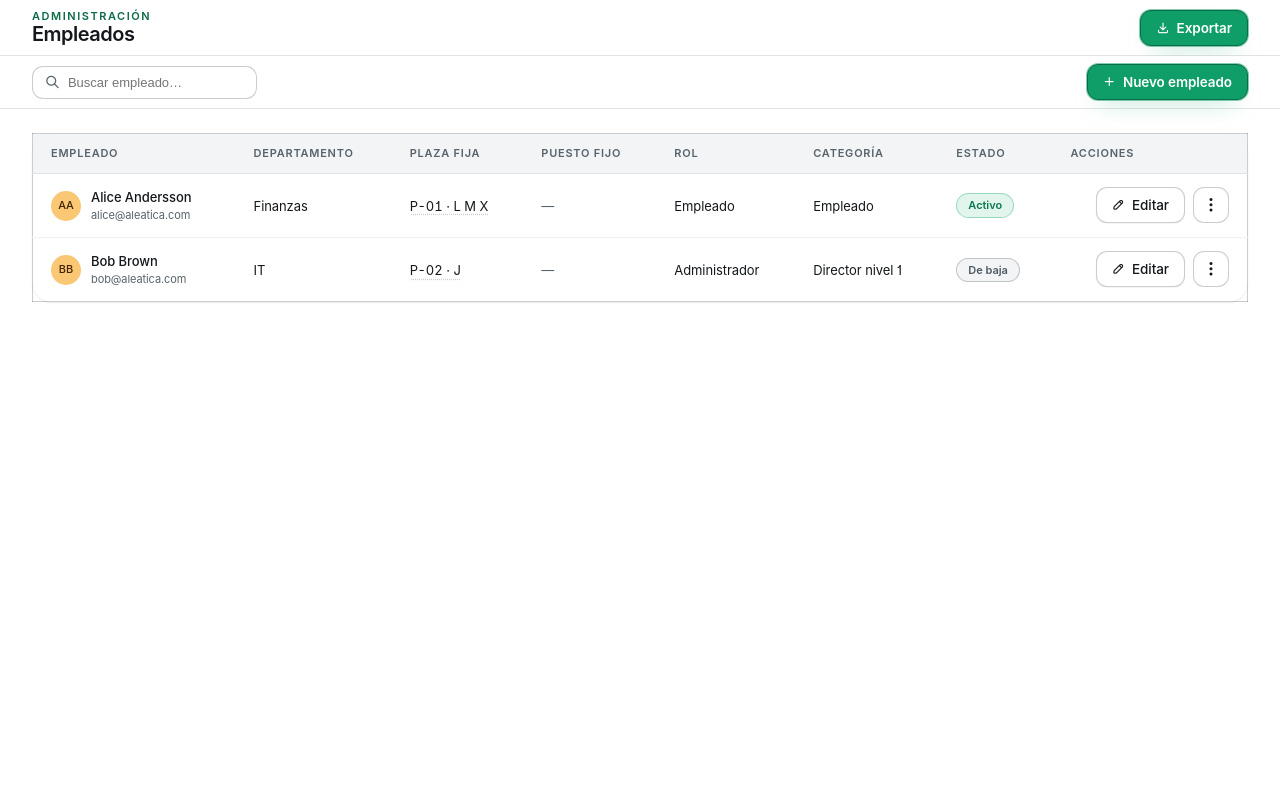
EmployeesPage › should_open_edit_form_prefilled_when_clicking_edit
Step 1. Click the button "Editar" in the row of "AA" → (1140, 205), box [1096, 187, 1185, 223]
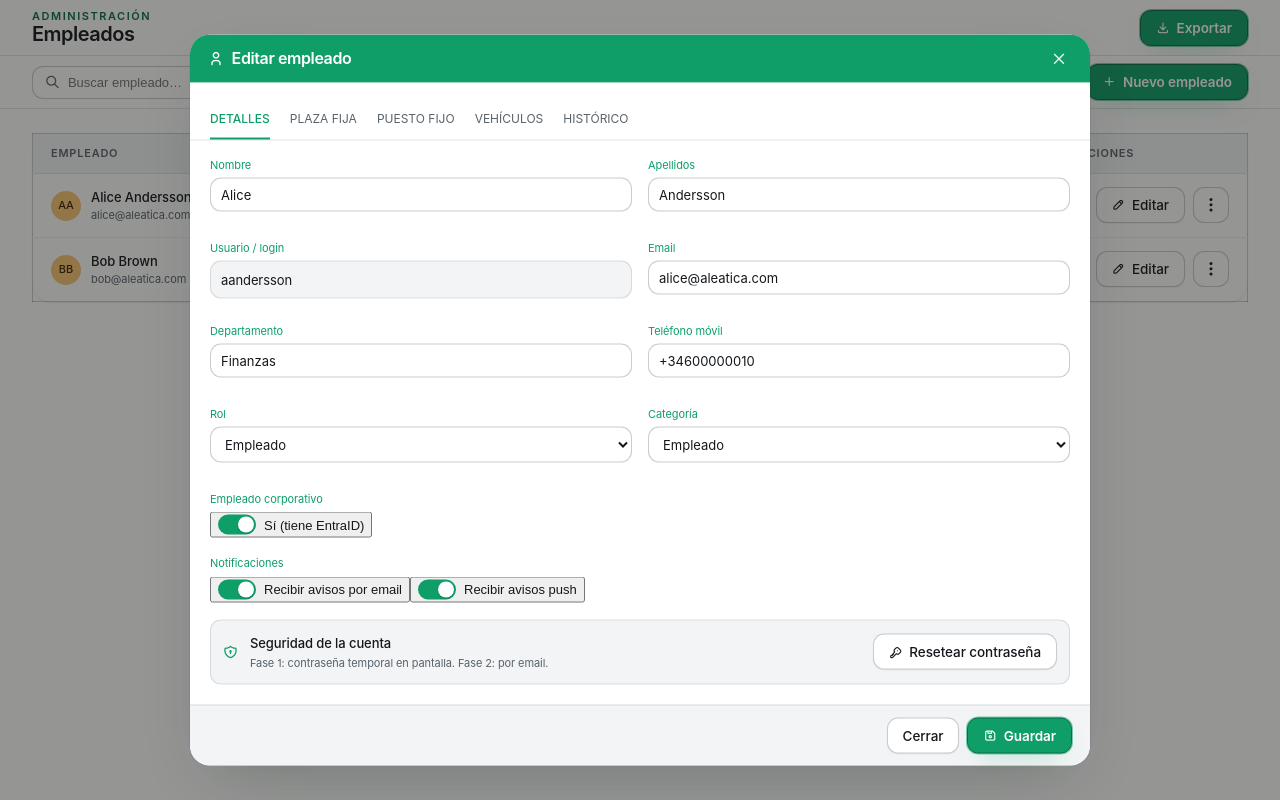
Now the heading "Editar empleado" is shown, box [208, 50, 351, 68]
Now the field labelled "Nombre" holds "Alice", box [210, 178, 632, 212]
